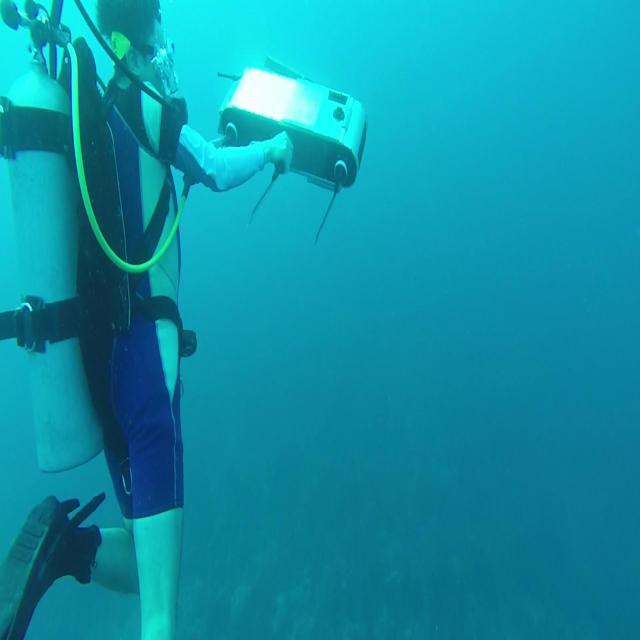human: (1, 0, 295, 638)
